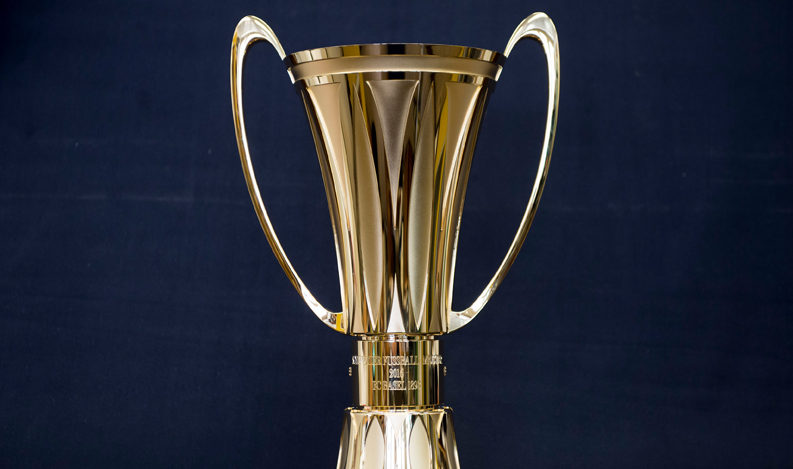trophy: (229, 10, 561, 469)
